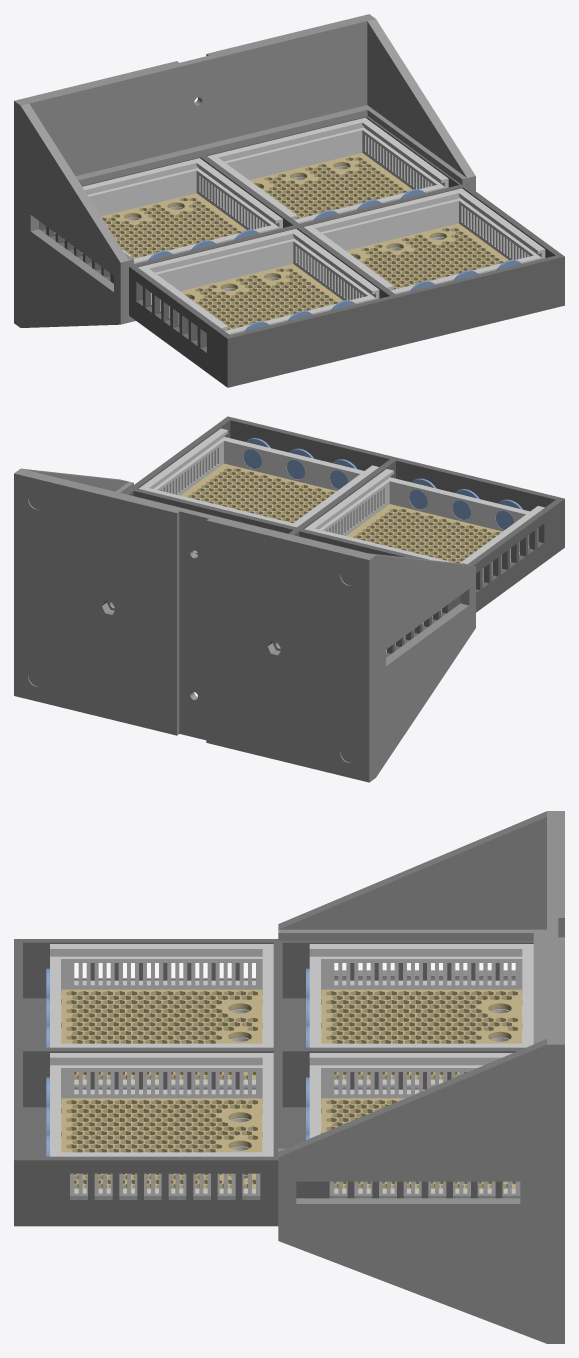
The model's file is assembly.glb.
3 renders of one model, top to bottom at view 1: azimuth 30°, elevation 25°; view 2: azimuth 150°, elevation 25°; view 3: azimuth 270°, elevation 25°, orthographic. The views are drawn at different scales.
Parts seen in each view (by area): view 1: stand, rack, cage3, cage2, cage4, cage1, foundation2, foundation4, foundation3, foundation1; view 2: stand, rack, cage3, cage4, foundation3, foundation4; view 3: stand, rack, cage4, foundation4, cage3, cage1, foundation3, foundation1, cage2, foundation2.
Boxes of the visible parts, x1,y1,x2,y2 form: stand: (14, 14, 475, 327); rack: (39, 116, 564, 387); cage3: (138, 229, 379, 346); cage2: (207, 117, 448, 223); cage4: (304, 188, 545, 294); cage1: (45, 158, 282, 276); foundation2: (250, 153, 412, 219); foundation4: (346, 223, 508, 290); foundation3: (180, 264, 342, 330); foundation1: (101, 193, 246, 258); stand: (14, 468, 475, 782); rack: (111, 416, 564, 657); cage3: (304, 469, 544, 582); cage4: (139, 428, 378, 527); foundation3: (346, 504, 502, 563); foundation4: (180, 463, 336, 522); stand: (278, 811, 564, 1343); rack: (14, 939, 533, 1226); cage4: (50, 1053, 273, 1195); foundation4: (61, 1098, 262, 1188); cage3: (50, 944, 273, 1087); cage1: (309, 944, 533, 1087); foundation3: (61, 989, 262, 1079); foundation1: (321, 989, 522, 1079); cage2: (309, 1053, 520, 1195); foundation2: (321, 1098, 515, 1188).
Bounding box in the file's own units: 247 × 148 × 246.
